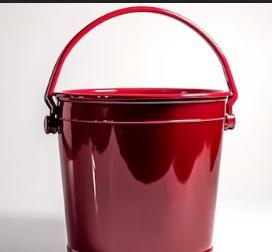SEAU: (0, 1, 256, 252)
